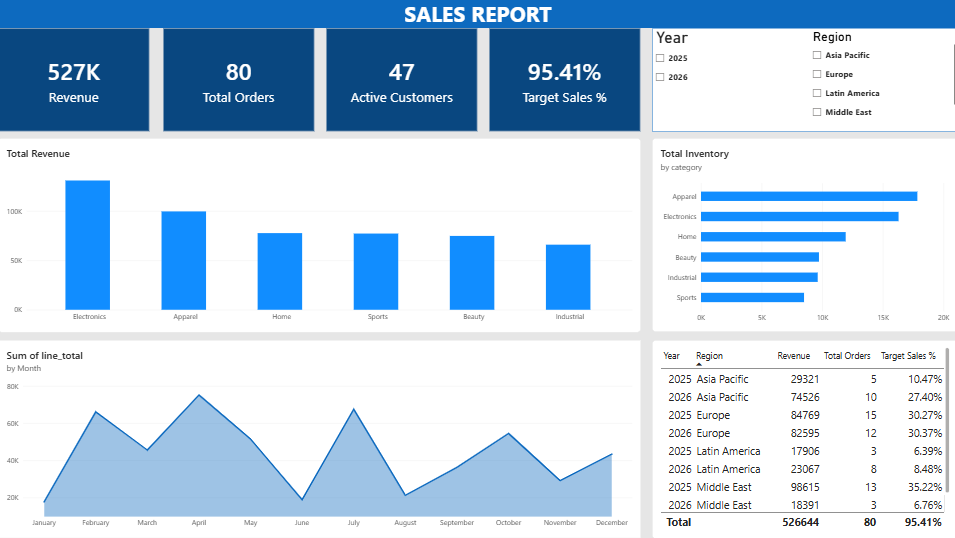

Layout of this report page (visuals, bound fields, positions):
{"tool":"powerbi","page":{"name":"Page 1","canvas":[1920,1080],"ordinal":0},"visuals":[{"type":"shape","box":[1308,58,612,208],"z":0},{"type":"tableEx","fields":{"Values":["dim_date.Date.Variation.Date Hierarchy.Year","dim_customer.region","_measures.total_revenue","_measures.total_orders","_measures.Target Sales %"]},"box":[1308,682,612,398],"z":1000},{"type":"textbox","box":[0,0,1920,58],"z":2000},{"type":"card","fields":{"Values":["_measures.total_orders"]},"box":[329.3,57.5,303.2,207.3],"z":3000},{"type":"card","fields":{"Values":["_measures.total_active_customers"]},"box":[656.8,57.5,303.2,207.3],"z":4000},{"type":"card","fields":{"Values":["_measures.Target Achievement %"]},"box":[982.6,57.5,303.2,207.3],"z":5000},{"type":"columnChart","title":"Total Revenue","fields":{"Category":["dim_product.category"],"Y":["Sum(fact_sales.line_total)"]},"box":[0,277,1285.8,388.5],"z":6000},{"type":"lineChart","fields":{"Category":["dim_date.Date.Variation.Date Hierarchy.Year","dim_date.Date.Variation.Date Hierarchy.Month"],"Y":["Sum(fact_sales.line_total)"]},"box":[0,683,1285.8,397.2],"z":7000},{"type":"card","fields":{"Values":["_measures.total_sales"]},"box":[0,57.5,303.2,207.3],"z":8000},{"type":"slicer","fields":{"Values":["dim_customer.region"]},"box":[1622,60,298,182],"z":9000},{"type":"slicer","fields":{"Values":["dim_date.Year"]},"box":[1308,58,292,206],"z":10000},{"type":"barChart","fields":{"Category":["dim_product.category"],"Y":["_measures.Total Inventory"]},"box":[1308,278,612,388],"z":10001}]}

Visuals, with their boxes in screenshot pixels (x1, y1, x2, y2), scaled from the page's 1920x1080 canvas onto the 955x538 screenshot:
shape: crop(651, 29, 954, 133)
tableEx - dim_date.Date.Variation.Date Hierarchy.Year x dim_customer.region: crop(651, 340, 954, 537)
textbox: crop(0, 0, 954, 29)
card - _measures.total_orders: crop(164, 29, 315, 132)
card - _measures.total_active_customers: crop(327, 29, 478, 132)
card - _measures.Target Achievement %: crop(489, 29, 640, 132)
"Total Revenue" columnChart: crop(0, 138, 640, 332)
lineChart - dim_date.Date.Variation.Date Hierarchy.Year x dim_date.Date.Variation.Date Hierarchy.Month: crop(0, 340, 640, 537)
card - _measures.total_sales: crop(0, 29, 151, 132)
slicer - dim_customer.region: crop(807, 30, 954, 121)
slicer - dim_date.Year: crop(651, 29, 796, 132)
barChart - dim_product.category x _measures.Total Inventory: crop(651, 138, 954, 332)
